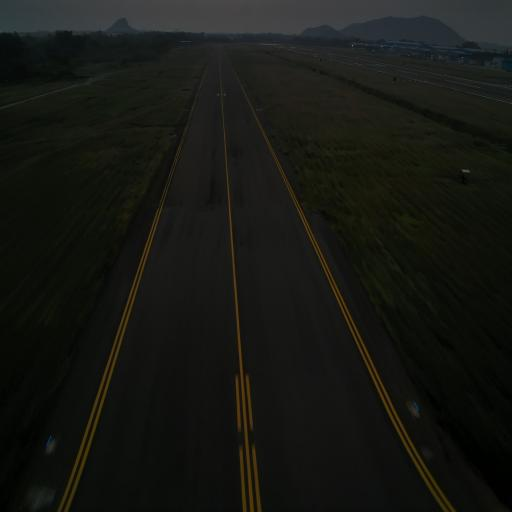on: (414, 396, 420, 416)
